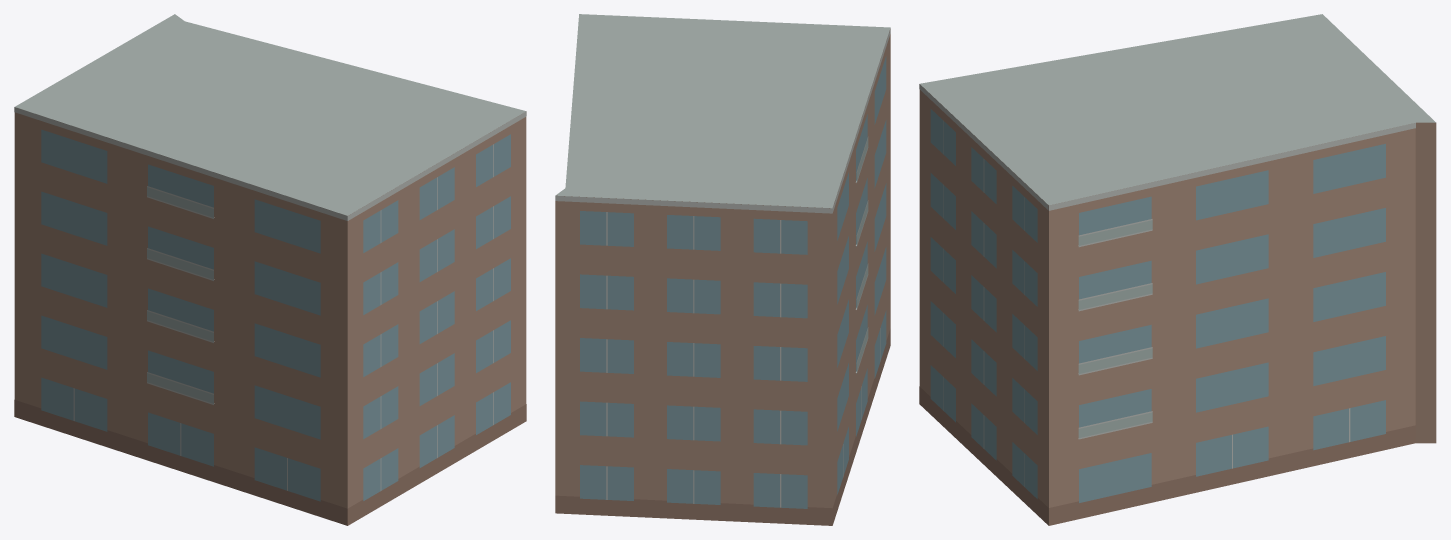
Rendered from survey-upis-33036230.glb.
3 renders of one model, left to right at view 1: azimuth 30°, elevation 25°; view 2: azimuth 150°, elevation 25°; view 3: azimuth 270°, elevation 25°, orthographic. The views are drawn at different scales.
Visible parts, largest first — view 1: survey-upis-33036230.tmp; view 2: survey-upis-33036230.tmp; view 3: survey-upis-33036230.tmp.
Part boxes in pixels (x1,y1,x2,y2): survey-upis-33036230.tmp: (14, 14, 526, 525); survey-upis-33036230.tmp: (555, 14, 890, 525); survey-upis-33036230.tmp: (919, 14, 1436, 525).
Size of the model in its own units: 18.47 by 14.4 by 21.07.
